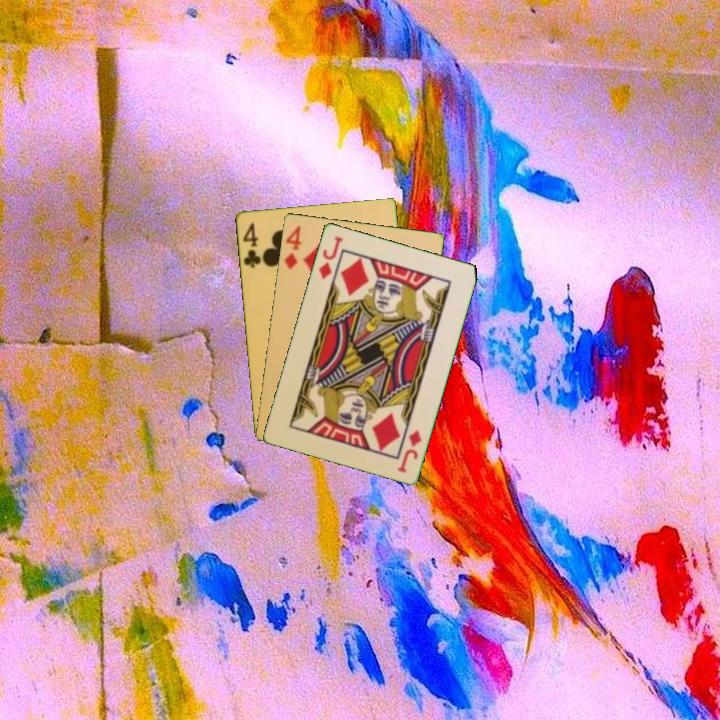4c: (239, 219, 263, 270)
4d: (280, 222, 304, 272)
Jd: (315, 232, 346, 282), (394, 426, 425, 475)
